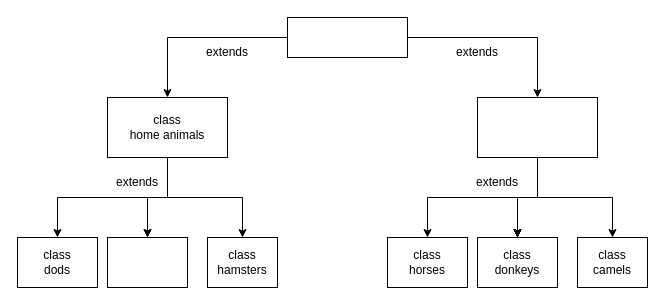
Some shapes in this 665 by 305 pixel diagram are drawn without their labels. The shapes that lost their labels are listed below. From the top down, each one's box as (x1, y1, x2, y2) in pixels, then its label:
(286, 16, 408, 58): class animals
(476, 96, 598, 158): class pack animals
(106, 236, 188, 288): class cats
